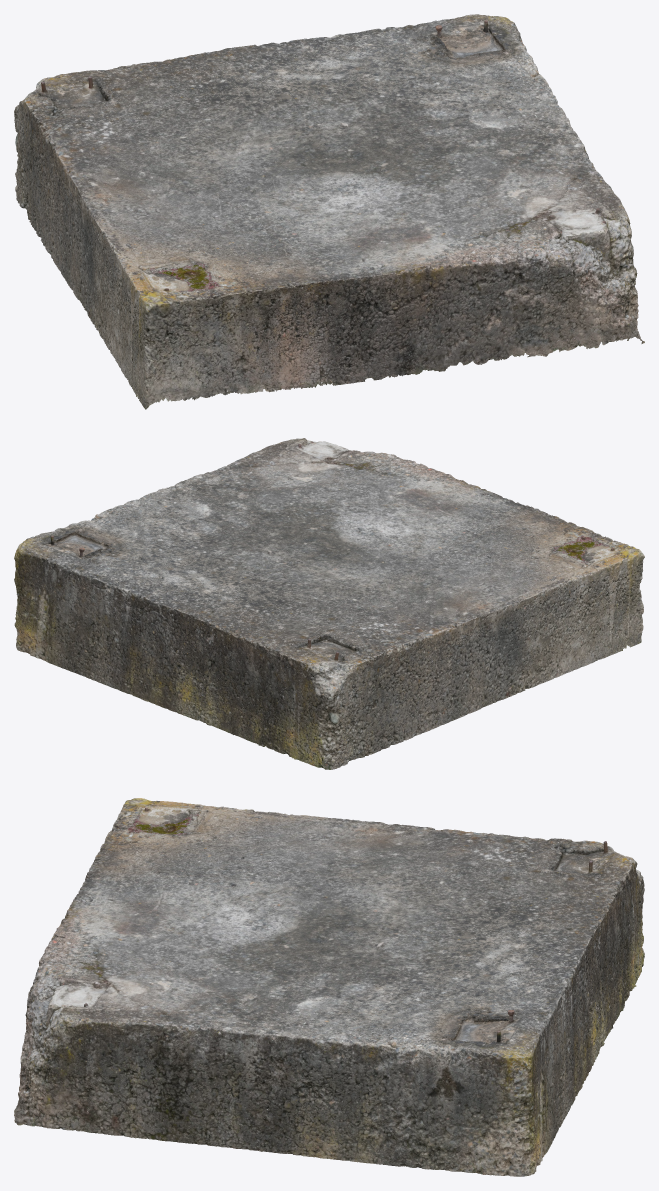
The model's file is sf-concrete-rectangle-block-329cbb.glb.
3 renders of one model, top to bottom at view 1: azimuth 30°, elevation 25°; view 2: azimuth 150°, elevation 25°; view 3: azimuth 270°, elevation 25°, orthographic. The views are drawn at different scales.
Parts seen in each view (by area): view 1: Model_material2_0, Model_material0_0, Model_material3_0, Model_material1_0; view 2: Model_material1_0, Model_material2_0, Model_material0_0, Model_material3_0; view 3: Model_material2_0, Model_material0_0, Model_material3_0, Model_material1_0.
Part boxes in pixels (box(x1,y1,x2,y2)): Model_material2_0: box(44, 76, 638, 377); Model_material0_0: box(55, 19, 564, 409); Model_material3_0: box(15, 21, 644, 392); Model_material1_0: box(14, 14, 601, 396); Model_material1_0: box(14, 542, 635, 768); Model_material2_0: box(152, 438, 495, 744); Model_material0_0: box(14, 493, 644, 757); Model_material3_0: box(43, 446, 369, 769); Model_material2_0: box(20, 843, 623, 1175); Model_material0_0: box(75, 798, 634, 1176); Model_material3_0: box(14, 854, 644, 1169); Model_material1_0: box(136, 799, 644, 1163).
Size of the model in its own units: 3.05 by 0.6901 by 2.95.
Materials: 4 (4 with a texture image).
